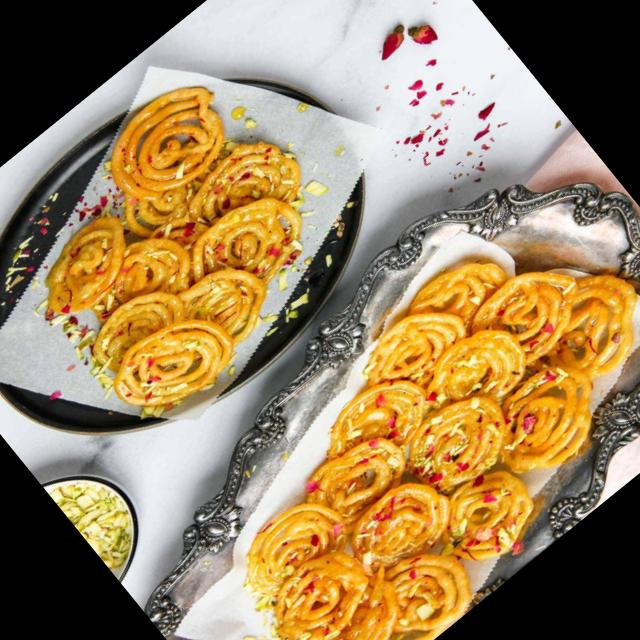jalebi: (130, 185, 640, 640), (0, 70, 359, 457)
